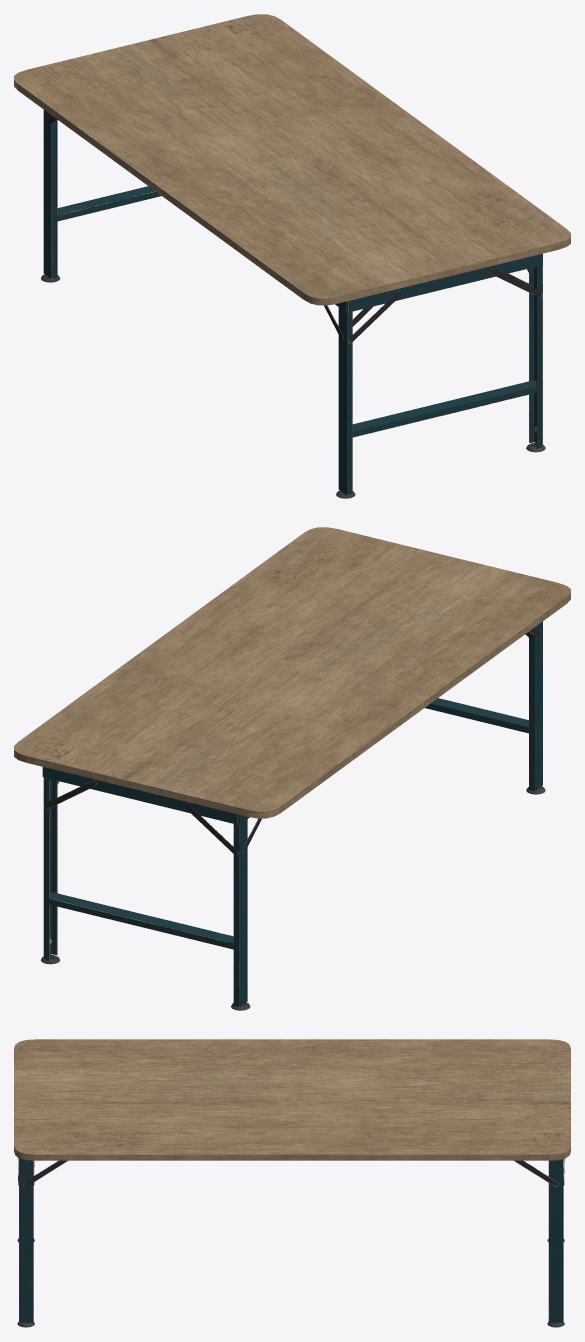
The model's file is workbench_low-poly.opt.glb.
The picture shows the model from 3 angles, top to bottom: view 1: azimuth 30°, elevation 25°; view 2: azimuth 150°, elevation 25°; view 3: azimuth 270°, elevation 25°; orthographic projection. The views are drawn at different scales.
Parts seen in each view (by area): view 1: work_bench_work_bench_0; view 2: work_bench_work_bench_0; view 3: work_bench_work_bench_0.
Boxes of the visible parts, x1,y1,x2,y2 form: work_bench_work_bench_0: (14, 14, 570, 498); work_bench_work_bench_0: (14, 527, 570, 1010); work_bench_work_bench_0: (14, 1039, 570, 1327).
Size of the model in its own units: 0.6829 by 0.5121 by 1.4.
Materials: 1 (1 with a texture image).
